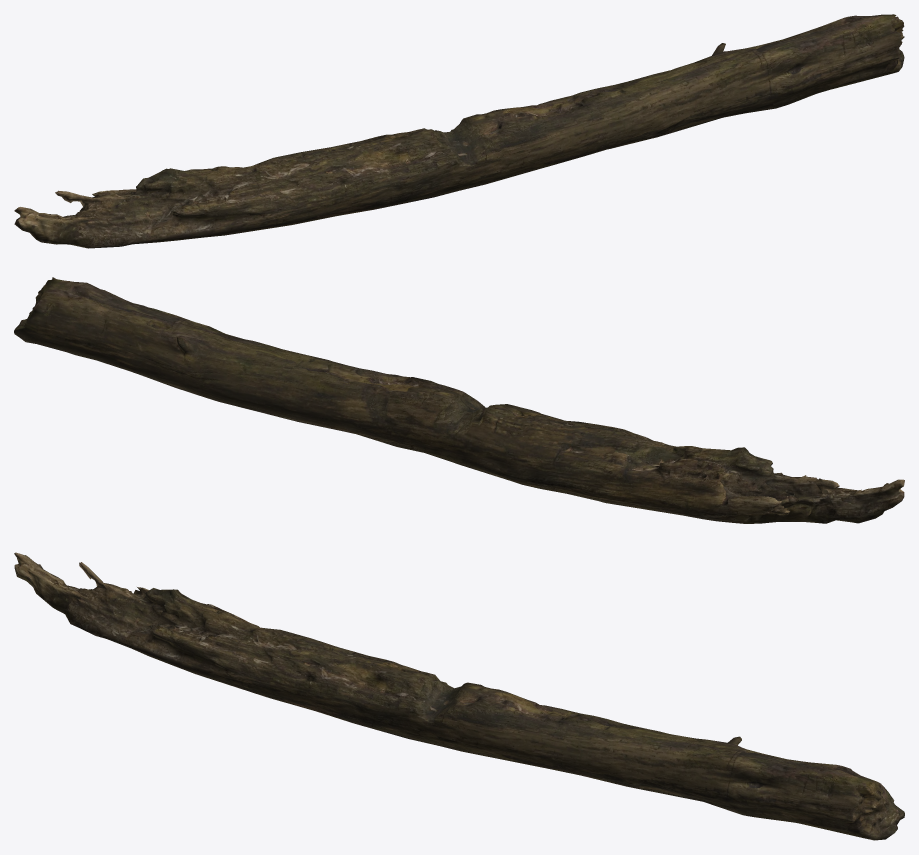
File: dead_tree_trunk_lod.glb
The picture shows the model from 3 angles, top to bottom: view 1: azimuth 30°, elevation 25°; view 2: azimuth 150°, elevation 25°; view 3: azimuth 330°, elevation 25°; orthographic projection.
Visible parts, largest first — view 1: dead_tree_trunk; view 2: dead_tree_trunk; view 3: dead_tree_trunk.
Boxes of the visible parts, x1=… form: dead_tree_trunk: x1=14, y1=14, x2=904, y2=248; dead_tree_trunk: x1=14, y1=277, x2=904, y2=523; dead_tree_trunk: x1=14, y1=552, x2=904, y2=840.
Bounding box in the file's own units: 3.05 × 0.2896 × 0.2762.
1 material, 1 textured.
